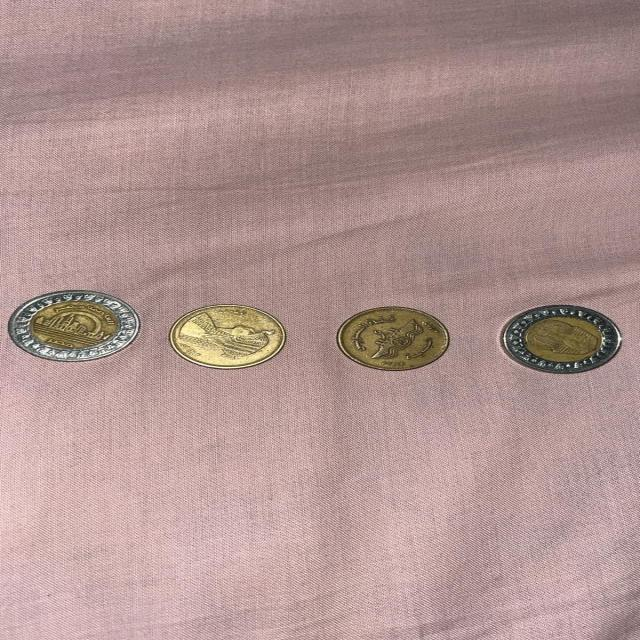Half Pound: (329, 302, 463, 377), (167, 299, 292, 374)
One Pound: (10, 282, 146, 365), (501, 302, 630, 378)
